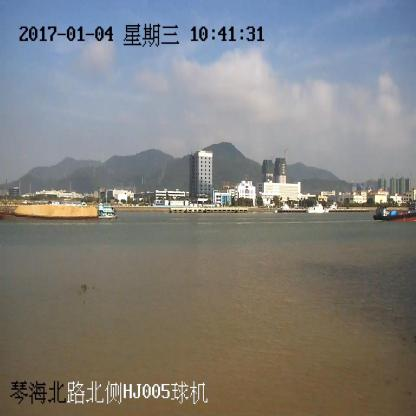Container Ship: (375, 207, 416, 221)
